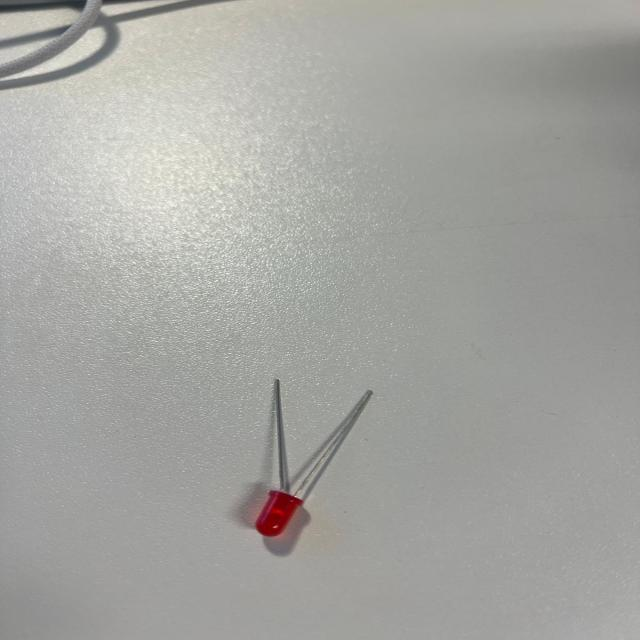REDLed: (196, 358, 404, 552)
